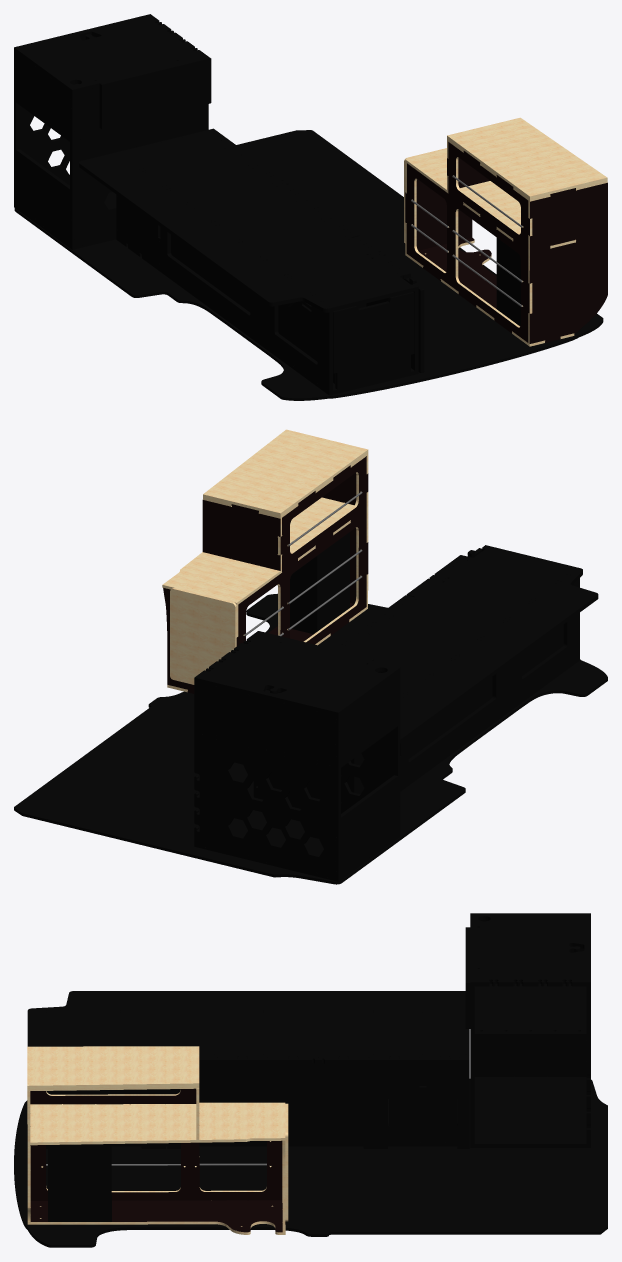
Rendered from Van_Assynt.glb.
The picture shows the model from 3 angles, top to bottom: view 1: azimuth 30°, elevation 25°; view 2: azimuth 150°, elevation 25°; view 3: azimuth 270°, elevation 25°; orthographic projection. The views are drawn at different scales.
Size of the model in its own units: 1.6 by 0.757 by 2.42.
Materials: 4 (1 with a texture image).
